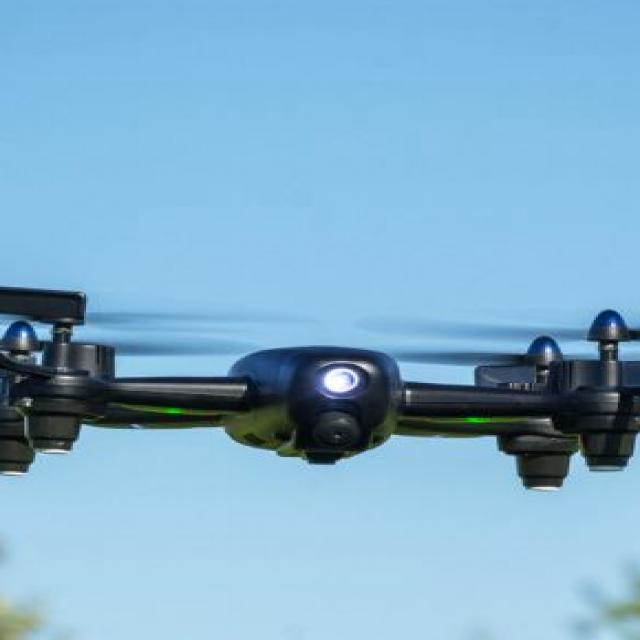drone: (0, 220, 640, 516)
